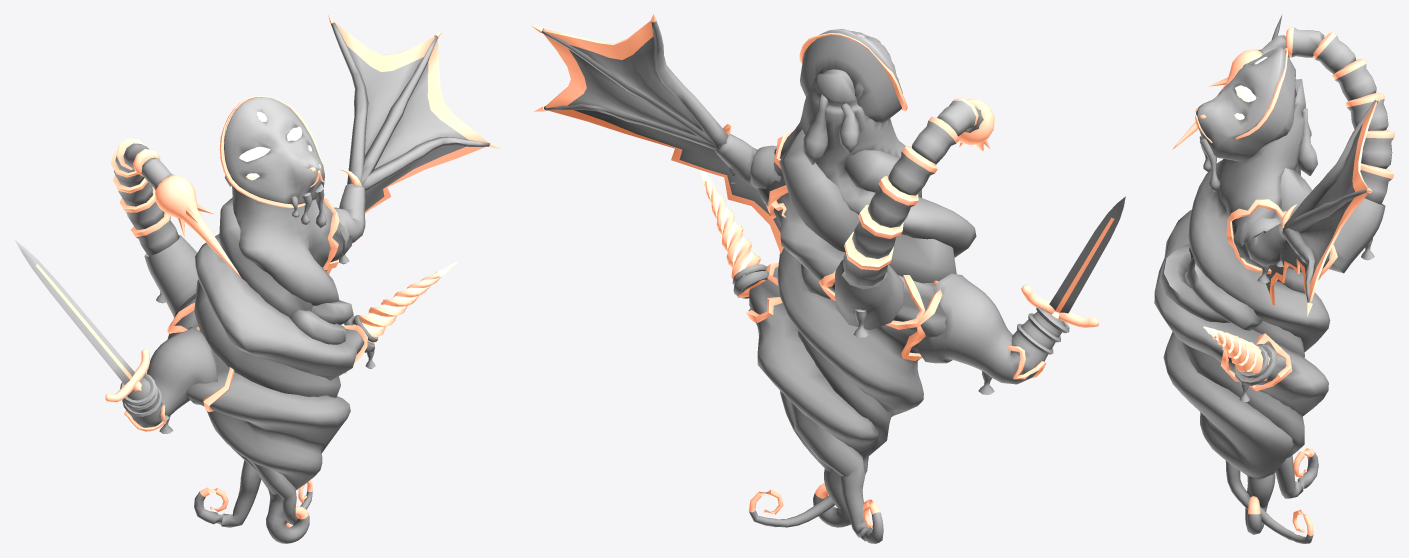
File: shapeshifter.glb
3 views of the same model, side by side, from view 1: azimuth 30°, elevation 25°; view 2: azimuth 150°, elevation 25°; view 3: azimuth 270°, elevation 25° (orthographic). The views are drawn at different scales.
Visible parts, largest first — view 1: Shapeshifter; view 2: Shapeshifter; view 3: Shapeshifter.
Boxes of the visible parts, x1=… form: Shapeshifter: x1=14, y1=14, x2=500, y2=543; Shapeshifter: x1=530, y1=14, x2=1125, y2=543; Shapeshifter: x1=1154, y1=14, x2=1394, y2=543.
Size of the model in its own units: 0.896 by 0.792 by 0.3501.
